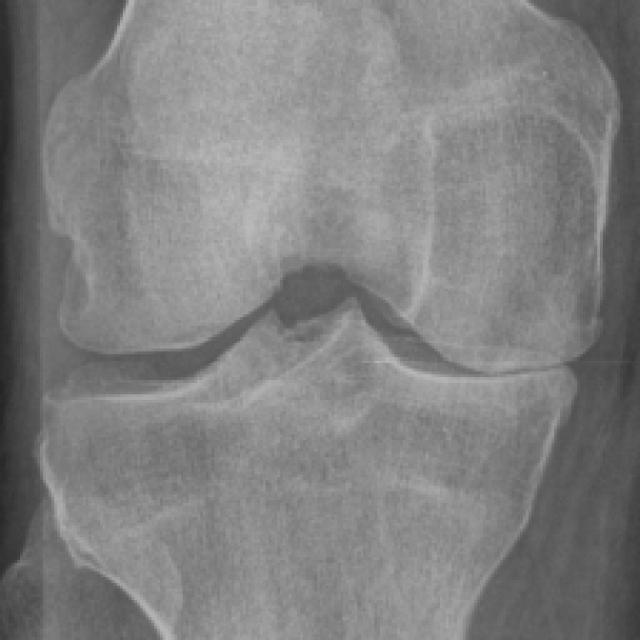femur: (39, 1, 614, 373)
tibia: (41, 298, 578, 640)
